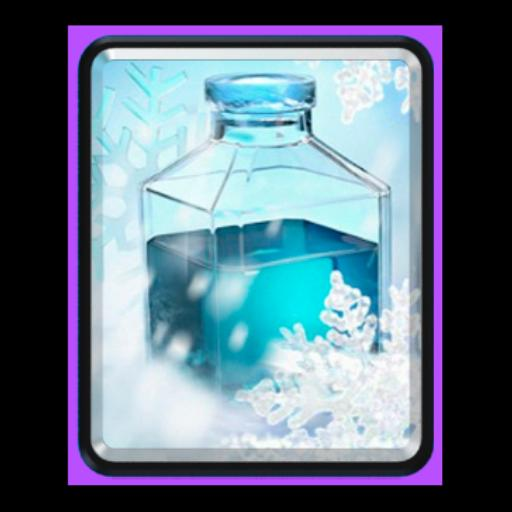freeze: (90, 61, 418, 459)
